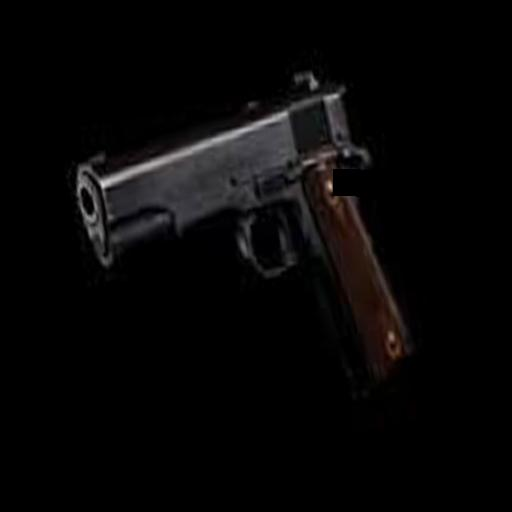Handgun: (59, 60, 418, 440)
